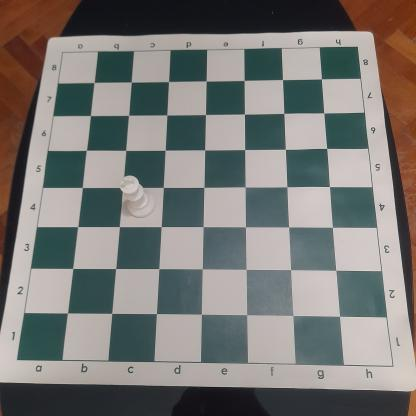white-king: (119, 174, 157, 218)
